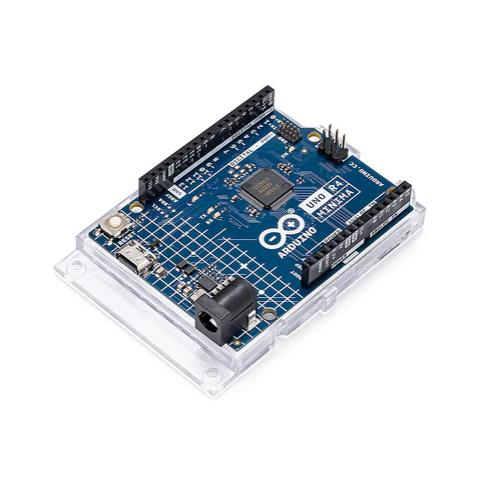Arduino-Uno: (84, 83, 420, 355)
